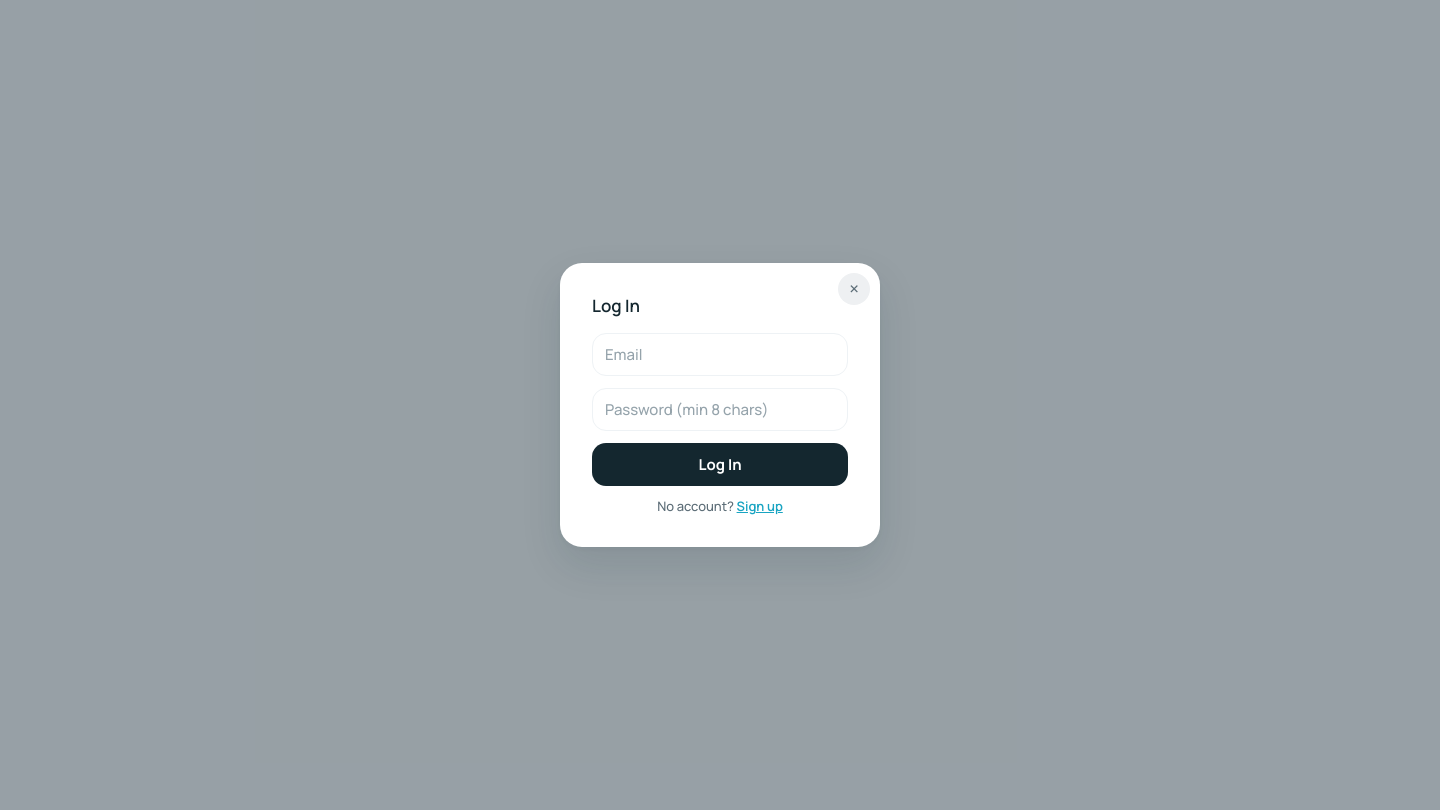
it: AuthModal › shows error message on login failure
Type "u@example.com" into the field with placeholder "Email" at point(720, 354), box [592,333,848,376]
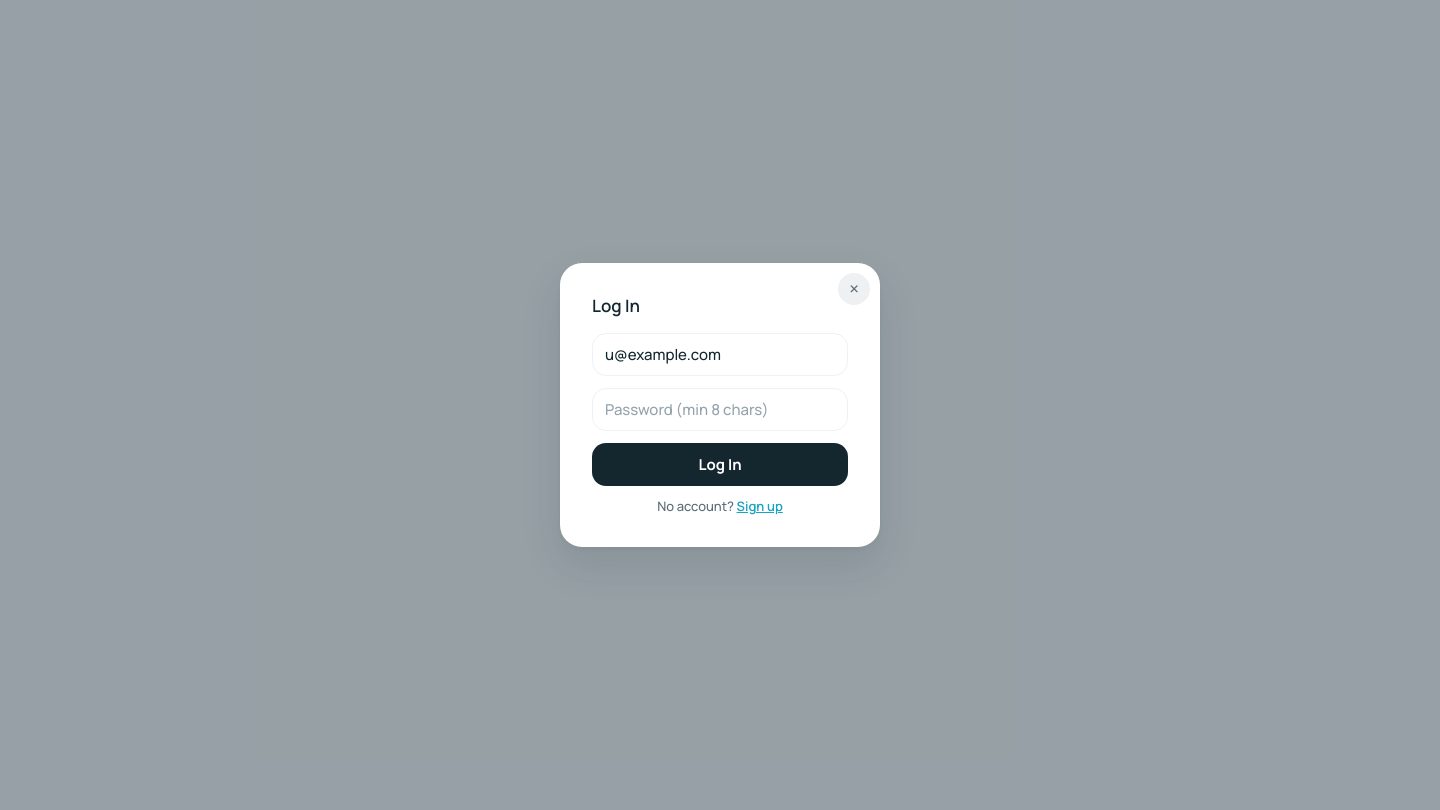
Type "hunter22" into the password field with placeholder "Password (min 8 chars)" at point(720, 409), box [592,388,848,431]
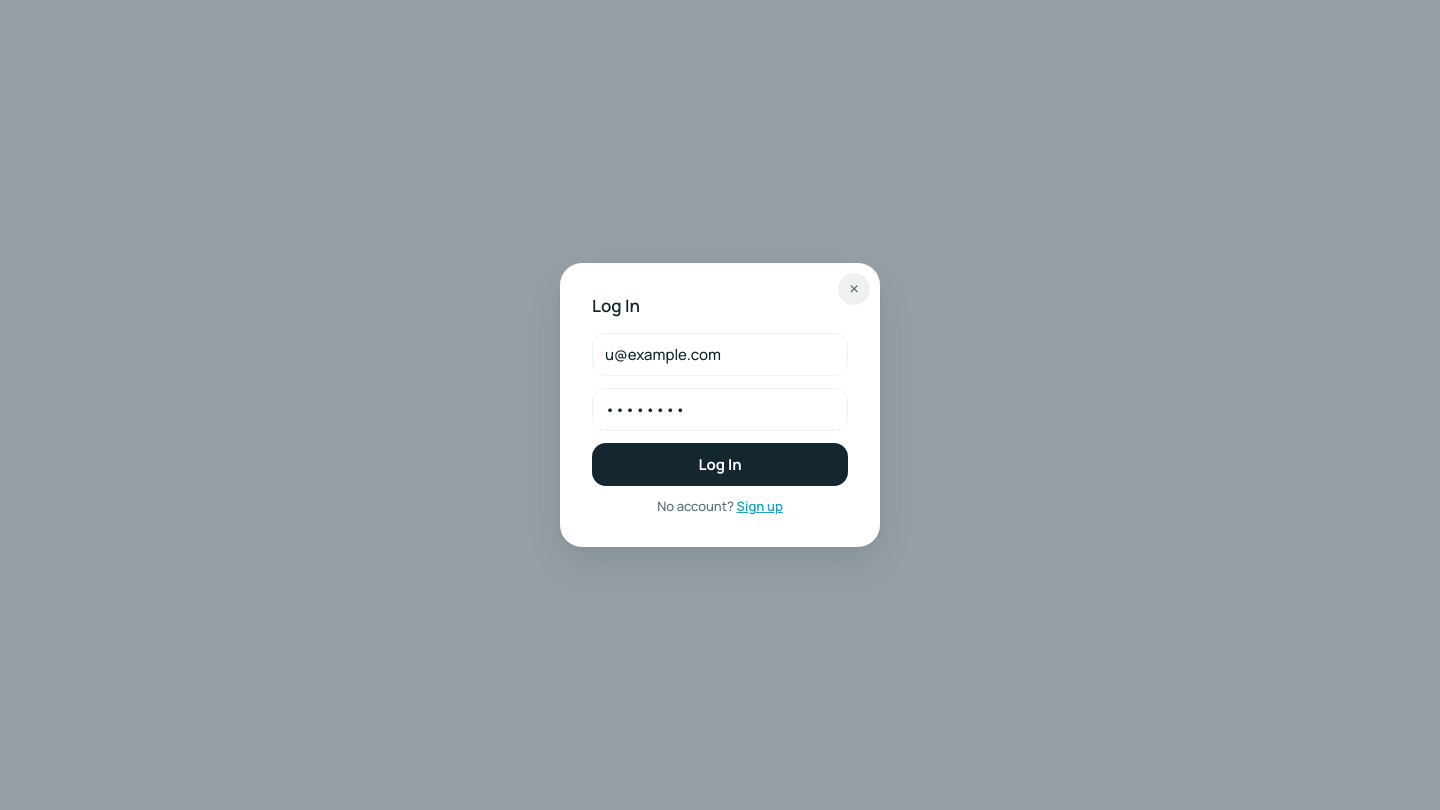
Submit the form with placeholder "email", box [592,333,848,486]
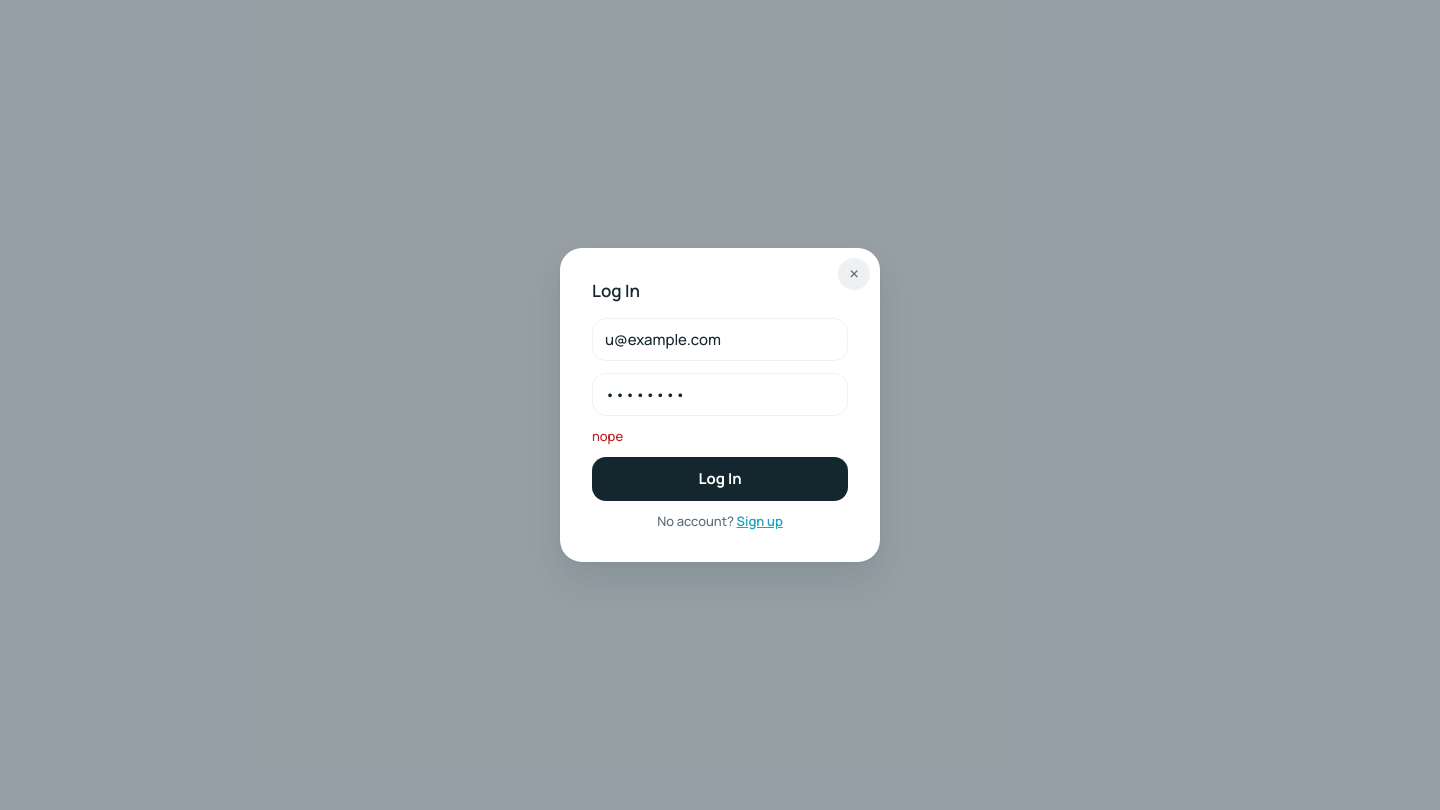
Expected: the text "nope" is shown, [592,427,623,445]
